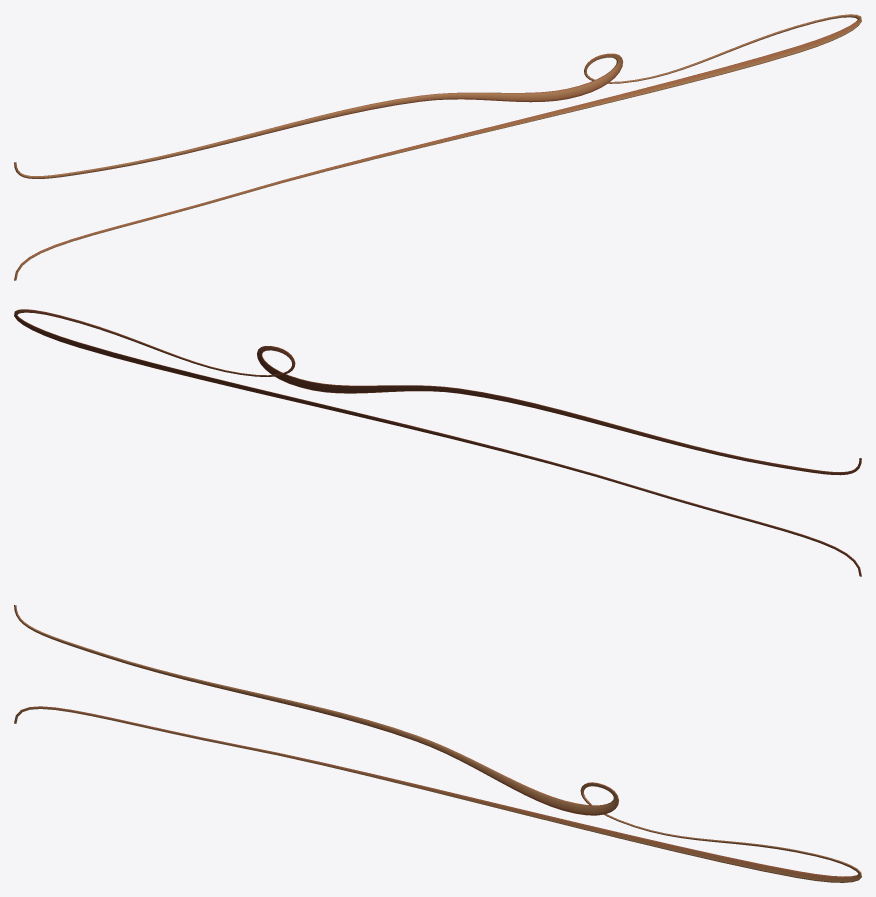
The model's file is splice-take-up.glb.
3 views of the same model, one above another, from view 1: azimuth 30°, elevation 25°; view 2: azimuth 150°, elevation 25°; view 3: azimuth 330°, elevation 25° (orthographic).
Visible parts, largest first — view 1: SpliceTape; view 2: SpliceTape; view 3: SpliceTape.
Part boxes in pixels (x1,y1,x2,y2): SpliceTape: [14, 14, 861, 280]; SpliceTape: [14, 309, 861, 576]; SpliceTape: [14, 605, 861, 882].
Bounding box in the file's own units: 10.85 × 1.44 × 0.0791.
